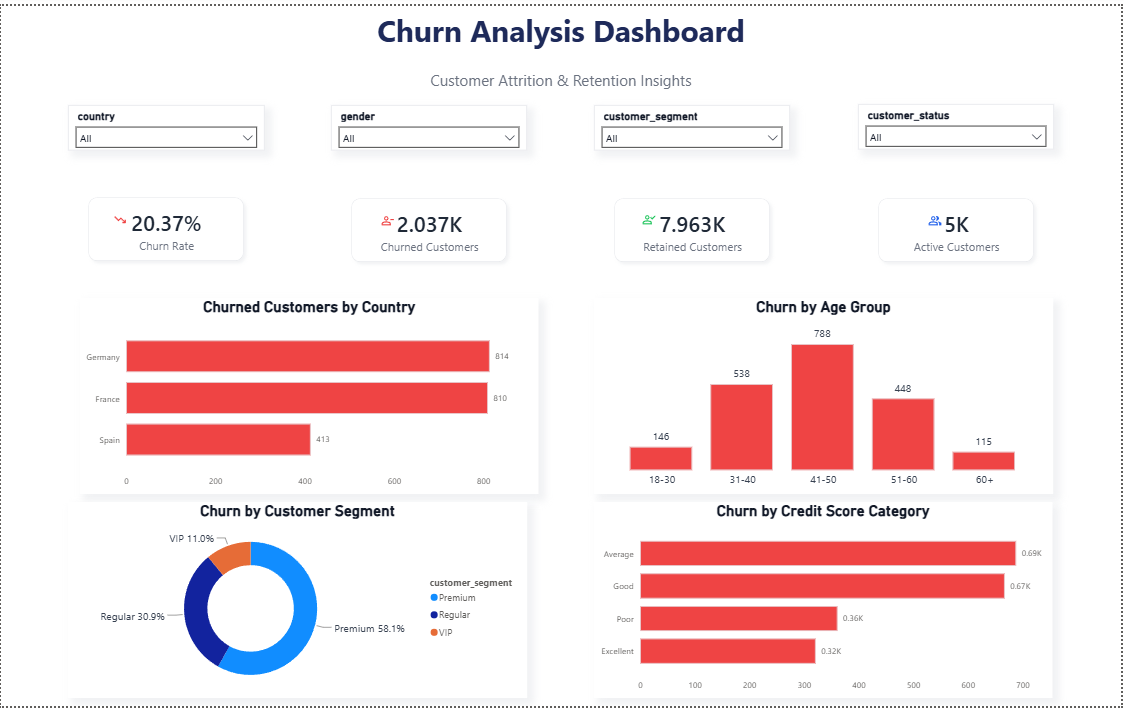

Layout of this report page (visuals, bound fields, positions):
{"tool":"powerbi","page":{"name":"Churn Analysis","canvas":[1600,1000],"ordinal":3},"visuals":[{"type":"textbox","box":[0,0,1600,68.6],"z":0},{"type":"group","id":"g1","title":"Group 2","box":[95.7,244.3,280.3,149.2],"z":0,"group":"g10"},{"type":"textbox","box":[0,68.6,1600,58.6],"z":1000},{"type":"cardVisual","fields":{"Data":["customers_processed.Churn Rate"]},"box":[95.7,244.3,280.3,149.2],"z":1000,"group":"g9"},{"type":"group","id":"g2","title":"Group 4","box":[471.4,245.7,280.3,149.2],"z":1000,"group":"g10"},{"type":"cardVisual","fields":{"Data":["CountNonNull(customers_processed.customer_id)"]},"box":[471.4,245.7,280.3,149.2],"z":1000,"group":"g3"},{"type":"cardVisual","fields":{"Data":["CountNonNull(customers_processed.customer_id)"]},"box":[847.1,245.7,280.3,149.2],"z":1000,"group":"g5"},{"type":"cardVisual","fields":{"Data":["customers_processed.Active Customers"]},"box":[1224.3,245.7,280.3,149.2],"z":1000,"group":"g7"},{"type":"slicer","fields":{"Values":["customers_processed.country"]},"box":[95.7,140.7,281.2,65],"z":2000,"group":"g8"},{"type":"group","id":"g3","title":"Group 5","box":[471.4,245.7,280.3,149.2],"z":2000,"group":"g2"},{"type":"group","id":"g4","title":"Group 6","box":[847.1,245.7,280.3,149.2],"z":2000,"group":"g10"},{"type":"slicer","fields":{"Values":["customers_processed.gender"]},"box":[471.7,141.2,280,65],"z":3000,"group":"g8"},{"type":"group","id":"g5","title":"Group 5","box":[847.1,245.7,280.3,149.2],"z":3000,"group":"g4"},{"type":"group","id":"g6","title":"Group 7","box":[1224.3,245.7,280.3,149.2],"z":3000,"group":"g10"},{"type":"group","id":"g7","title":"Group 5","box":[1224.3,245.7,280.3,149.2],"z":4000,"group":"g6"},{"type":"slicer","fields":{"Values":["customers_processed.customer_status"]},"box":[1223.7,140,280,65],"z":5000,"group":"g8"},{"type":"clusteredBarChart","title":"Churned Customers by Country","fields":{"Category":["customers_processed.country"],"Y":["CountNonNull(customers_processed.customer_id)"]},"box":[112.9,417.1,655,280],"z":5000},{"type":"image","box":[160,294.3,20,22.9],"z":6000,"group":"g9"},{"type":"clusteredColumnChart","title":"Churn by Age Group","fields":{"Category":["customers_processed.age_group"],"Y":["CountNonNull(customers_processed.customer_id)"]},"box":[847.1,417.1,655.7,280],"z":6000},{"type":"donutChart","title":"Churn by Customer Segment","fields":{"Category":["customers_processed.customer_segment"],"Y":["CountNonNull(customers_processed.customer_id)"]},"box":[95.7,708.6,655.7,280],"z":7000},{"type":"slicer","fields":{"Values":["customers_processed.customer_segment"]},"box":[847.7,141.2,280,65],"z":8000,"group":"g8"},{"type":"clusteredBarChart","title":"Churn by Credit Score Category","fields":{"Y":["CountNonNull(customers_processed.customer_id)"],"Category":["customers_processed.credit_score_category"]},"box":[847.1,708.6,655,280],"z":8000},{"type":"image","box":[542.8,295.7,20,22.9],"z":9000,"group":"g2"},{"type":"image","box":[915.7,294.3,20,22.9],"z":10000,"group":"g4"},{"type":"image","box":[1324.3,295.7,20,22.9],"z":11000,"group":"g6"},{"type":"group","id":"g8","title":"Group 1","box":[95.7,140,1408,66.2],"z":12000},{"type":"group","id":"g9","title":"Group 3","box":[95.7,244.3,280.3,149.2],"z":13001,"group":"g1"},{"type":"group","id":"g10","title":"Group 8","box":[95.7,244.3,1408.9,150.6],"z":13004}]}

Visuals, with their boxes in screenshot pixels (x1, y1, x2, y2), scaled from the page's 1600x1000 canvas onto the 1124x709 screenshot:
textbox: Rect(0, 0, 1123, 49)
"Group 2" group: Rect(67, 173, 264, 279)
textbox: Rect(0, 49, 1123, 90)
cardVisual - customers_processed.Churn Rate: Rect(67, 173, 264, 279)
"Group 4" group: Rect(331, 174, 528, 280)
cardVisual - CountNonNull(customers_processed.customer_id): Rect(331, 174, 528, 280)
cardVisual - CountNonNull(customers_processed.customer_id): Rect(595, 174, 792, 280)
cardVisual - customers_processed.Active Customers: Rect(860, 174, 1057, 280)
slicer - customers_processed.country: Rect(67, 100, 265, 146)
"Group 5" group: Rect(331, 174, 528, 280)
"Group 6" group: Rect(595, 174, 792, 280)
slicer - customers_processed.gender: Rect(331, 100, 528, 146)
"Group 5" group: Rect(595, 174, 792, 280)
"Group 7" group: Rect(860, 174, 1057, 280)
"Group 5" group: Rect(860, 174, 1057, 280)
slicer - customers_processed.customer_status: Rect(860, 99, 1056, 145)
"Churned Customers by Country" clusteredBarChart: Rect(79, 296, 539, 494)
image: Rect(112, 209, 126, 225)
"Churn by Age Group" clusteredColumnChart: Rect(595, 296, 1056, 494)
"Churn by Customer Segment" donutChart: Rect(67, 502, 528, 701)
slicer - customers_processed.customer_segment: Rect(596, 100, 792, 146)
"Churn by Credit Score Category" clusteredBarChart: Rect(595, 502, 1055, 701)
image: Rect(381, 210, 395, 226)
image: Rect(643, 209, 657, 225)
image: Rect(930, 210, 944, 226)
"Group 1" group: Rect(67, 99, 1056, 146)
"Group 3" group: Rect(67, 173, 264, 279)
"Group 8" group: Rect(67, 173, 1057, 280)
